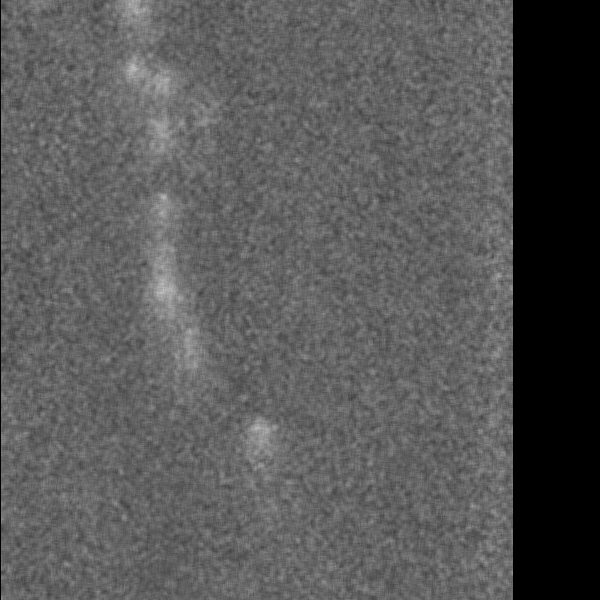spark: (138, 188, 196, 350), (239, 413, 283, 471), (114, 3, 150, 41), (143, 113, 178, 150), (120, 56, 150, 95)
